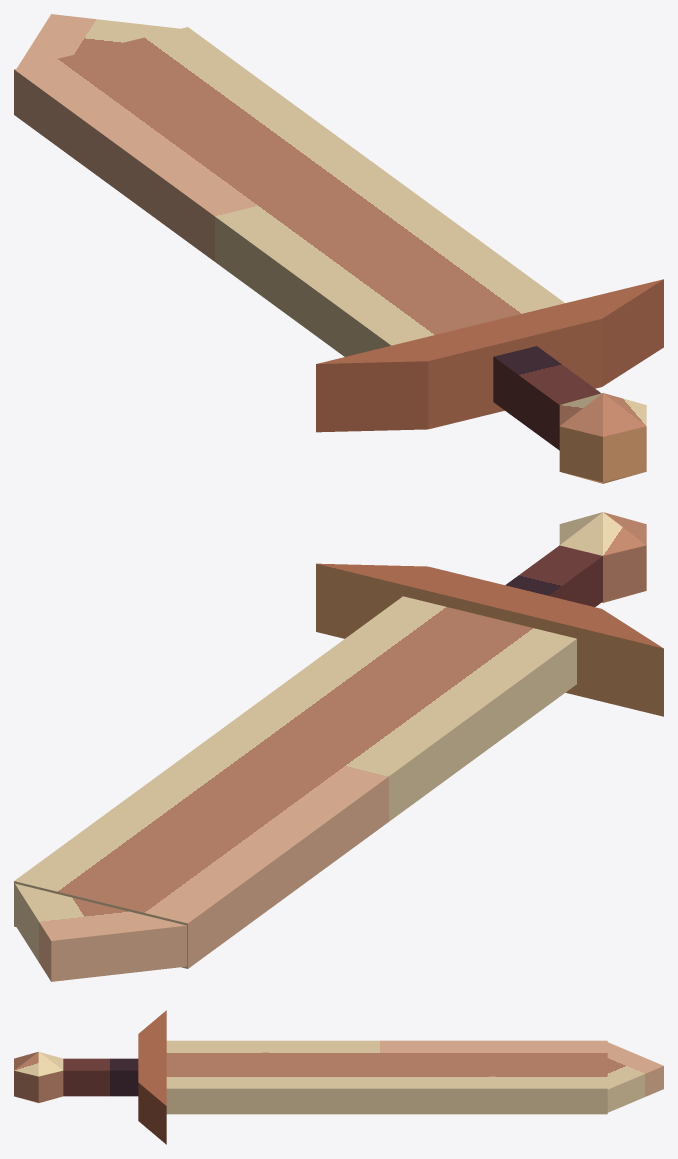
File: Sword.gltf
The picture shows the model from 3 angles, top to bottom: view 1: azimuth 30°, elevation 25°; view 2: azimuth 150°, elevation 25°; view 3: azimuth 270°, elevation 25°; orthographic projection. The views are drawn at different scales.
Parts seen in each view (by area): view 1: sphere; view 2: sphere; view 3: sphere.
Boxes of the visible parts, bbox=[...] form: sphere: bbox=[14, 14, 663, 483]; sphere: bbox=[14, 512, 663, 981]; sphere: bbox=[14, 1010, 663, 1144].
Bounding box in the file's own units: 0.5 × 0.125 × 1.43.
1 material, 1 textured.
